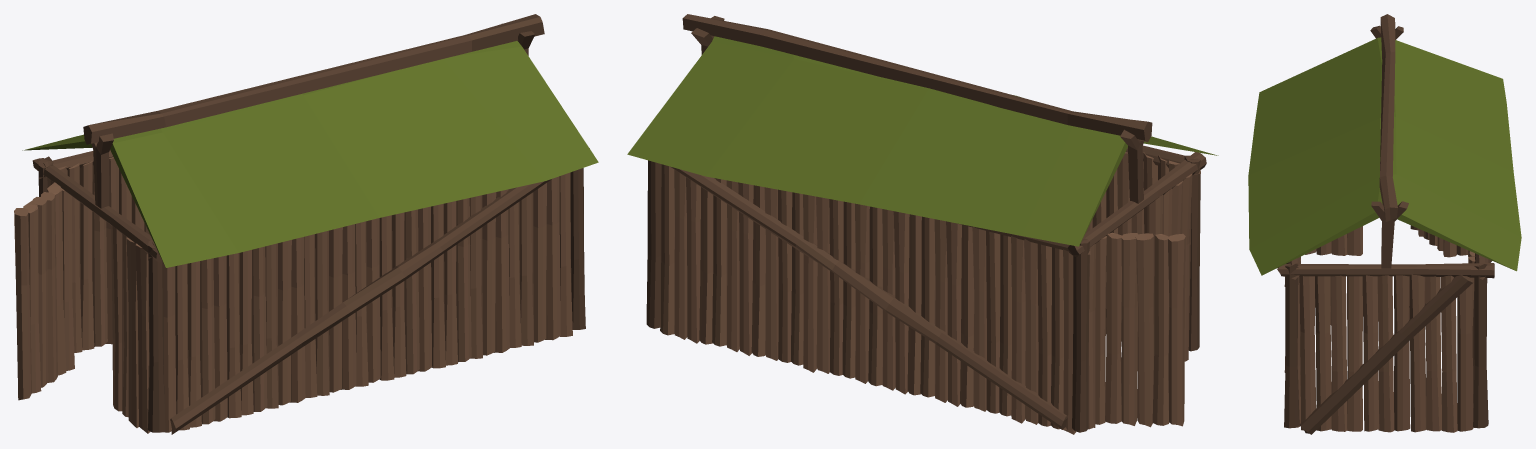
The model's file is hut.fbx.
3 renders of one model, left to right at view 1: azimuth 30°, elevation 25°; view 2: azimuth 150°, elevation 25°; view 3: azimuth 270°, elevation 25°, orthographic. The views are drawn at different scales.
Visible parts, largest first — view 1: hut; view 2: hut; view 3: hut.
Part boxes in pixels (x1=…): hut: x1=14, y1=14, x2=598, y2=434; hut: x1=627, y1=14, x2=1218, y2=434; hut: x1=1248, y1=14, x2=1521, y2=434.
Bounding box in the file's own units: 4.96 × 2.56 × 2.67.
